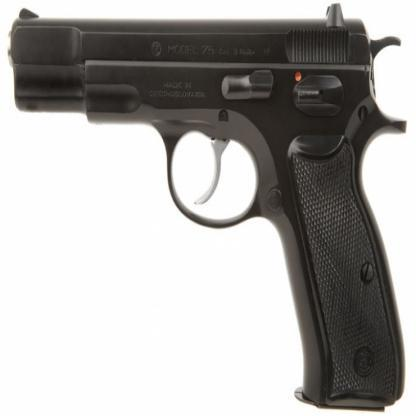gun: (4, 4, 409, 414)
